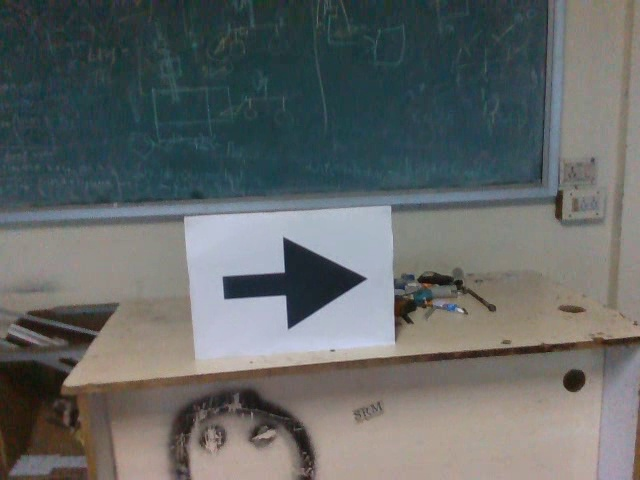Right: (215, 232, 371, 332)
